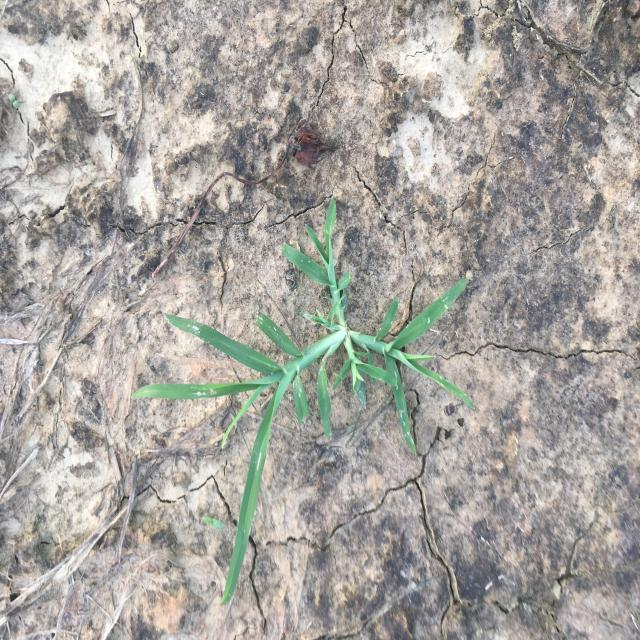Goosegrass: (129, 195, 479, 610)
